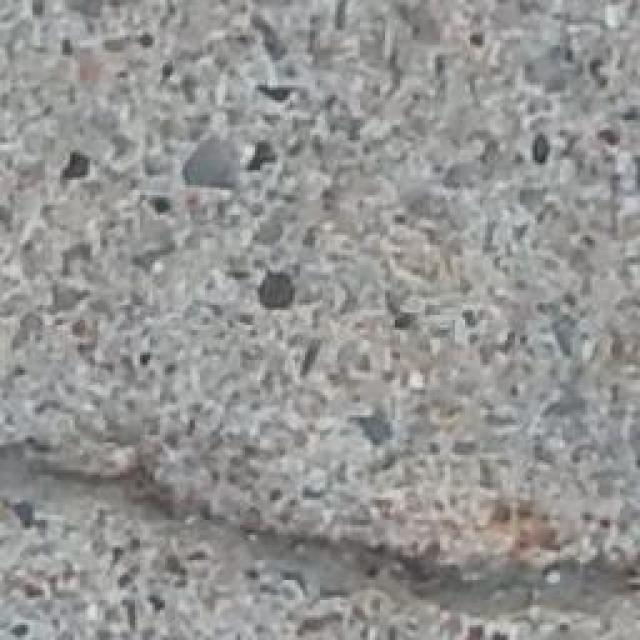concrete-crack: (3, 428, 639, 638)
